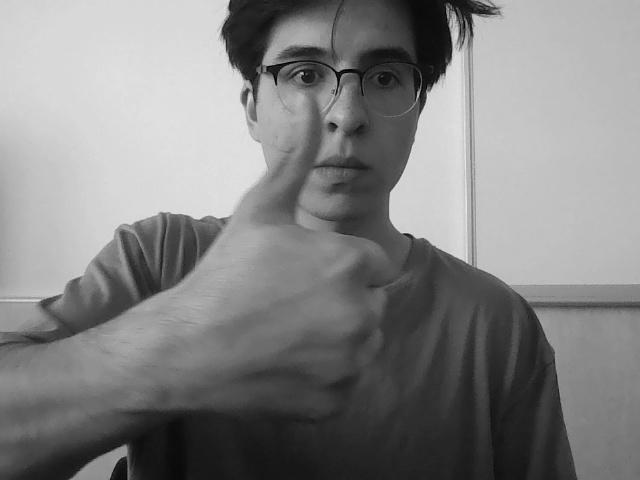good: (210, 90, 360, 436)
